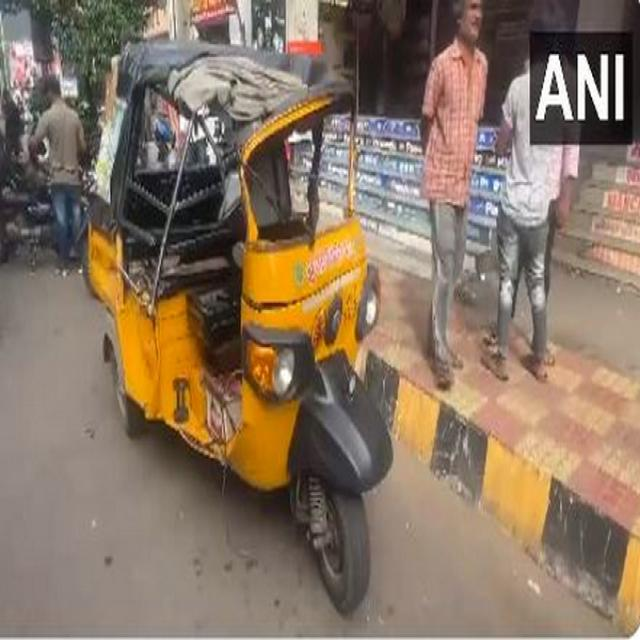accident: (86, 42, 392, 612)
